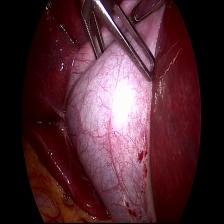Grasper: (78, 0, 161, 93), (128, 0, 168, 25)
